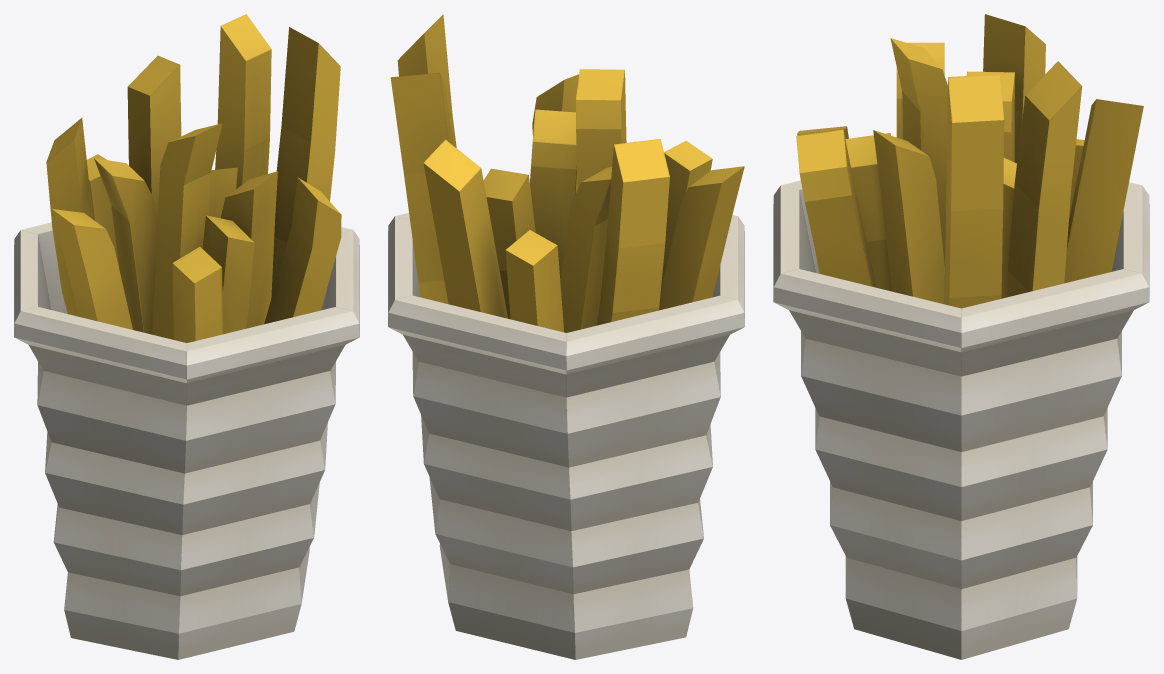
3 views of the same model, side by side, from view 1: azimuth 30°, elevation 25°; view 2: azimuth 150°, elevation 25°; view 3: azimuth 270°, elevation 25° (orthographic). The views are drawn at different scales.
Parts seen in each view (by area): view 1: FrenchFries_mesh; view 2: FrenchFries_mesh; view 3: FrenchFries_mesh.
Boxes of the visible parts, <box> form: FrenchFries_mesh: <box>14,14,359,659</box>; FrenchFries_mesh: <box>388,14,744,659</box>; FrenchFries_mesh: <box>773,14,1149,659</box>.
Bounding box in the file's own units: 6.28 × 9.38 × 5.44.
1 material, 1 textured.
